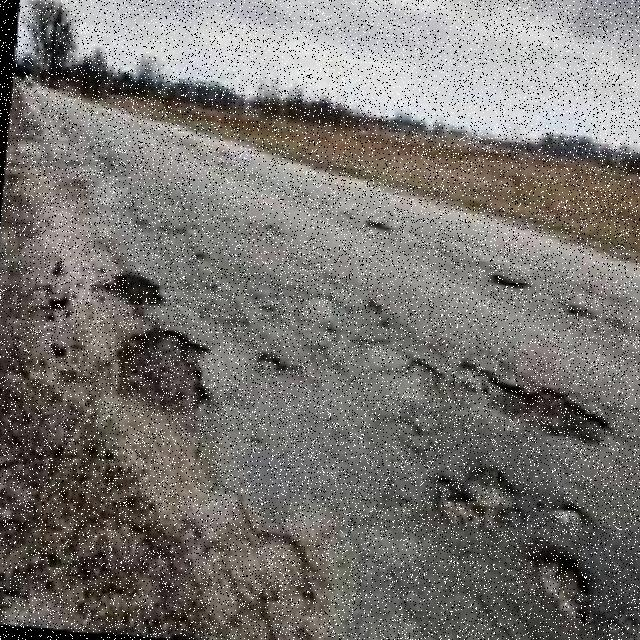pothole: (470, 369, 615, 446), (119, 325, 211, 423), (436, 468, 517, 527), (531, 546, 589, 623), (102, 273, 166, 319)
